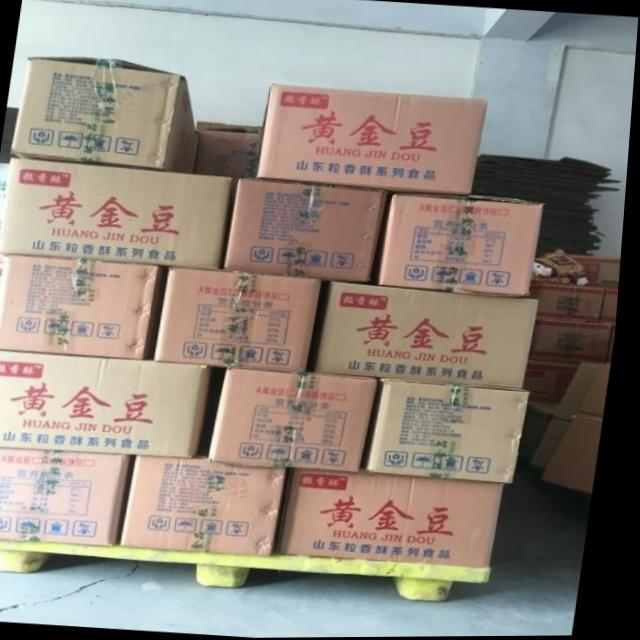box: (259, 82, 490, 194), (1, 158, 235, 268), (320, 281, 543, 389), (0, 350, 213, 458), (288, 468, 512, 569), (11, 58, 202, 174), (215, 367, 383, 473), (157, 268, 325, 372), (0, 254, 162, 360), (129, 455, 294, 557), (375, 380, 535, 484), (227, 180, 388, 281), (384, 196, 545, 297), (0, 448, 134, 546), (538, 363, 616, 496), (197, 121, 268, 179), (537, 319, 616, 364), (541, 285, 609, 325), (532, 361, 587, 405), (574, 255, 625, 290)
